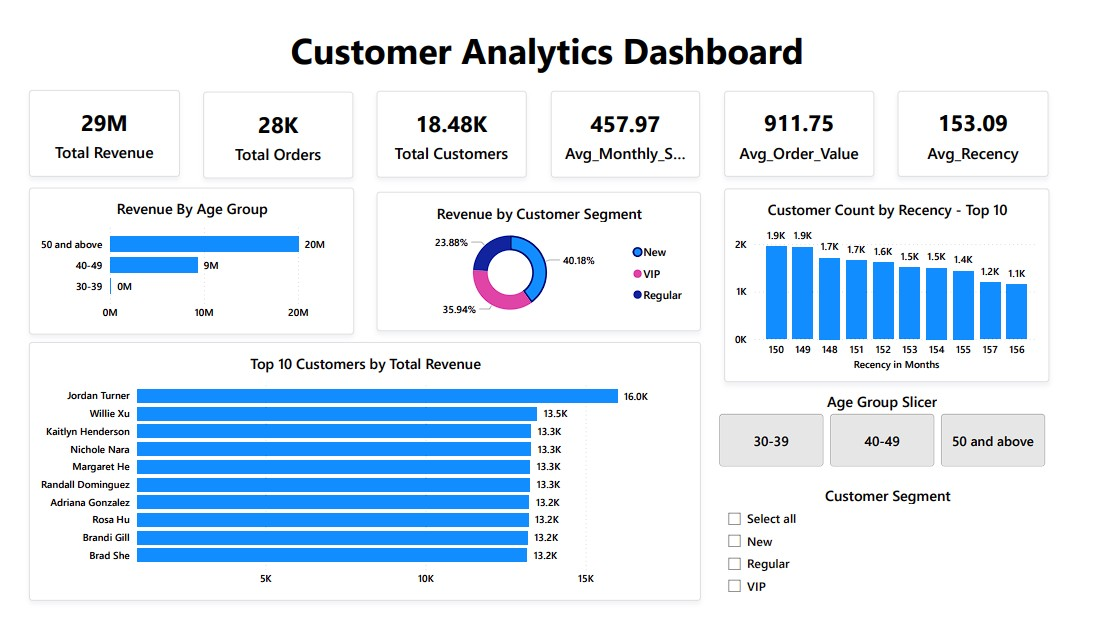

The page's visual inventory and layout, read from the dashboard file:
{"tool":"powerbi","page":{"name":"Customer Analytics Dashboard","canvas":[1280,720],"ordinal":1},"visuals":[{"type":"card","fields":{"Values":["Sum(report_customers.total_sales)"]},"box":[17.7,97.5,181,103.8],"z":0},{"type":"card","fields":{"Values":["Count(report_customers.customer_key)"]},"box":[435.5,97.8,179.8,103.9],"z":1000},{"type":"card","fields":{"Values":["Avg(report_customers.avg_order_value)"]},"box":[852,97.8,179.8,102.7],"z":2000},{"type":"card","fields":{"Values":["Sum(report_customers.total_orders)"]},"box":[227.2,99,179.8,103.9],"z":3000},{"type":"card","fields":{"Values":["Avg(report_customers.avg_monthly_spend)"]},"box":[643.7,97.8,179.8,103.9],"z":4000},{"type":"card","fields":{"Values":["Avg(report_customers.recency)"]},"box":[1060.2,97.8,181,102.7],"z":5000},{"type":"textbox","box":[259.6,15.2,760.8,68.4],"z":6000},{"type":"barChart","title":"Revenue By Age Group","fields":{"Category":["report_customers.age_group"],"Y":["Sum(report_customers.total_sales)"]},"box":[17.7,213.9,389.9,175.9],"z":7000},{"type":"donutChart","title":"Revenue by Customer Segment","fields":{"Category":["report_customers.customer_segment"],"Y":["Sum(report_customers.total_sales)"]},"box":[435.4,219,388.6,167.1],"z":8000},{"type":"barChart","title":"Top 10 Customers by Total Revenue","fields":{"Category":["report_customers.customer_name"],"Y":["Sum(report_customers.total_sales)"]},"box":[17.7,398.7,806.3,310.1],"z":9000},{"type":"advancedSlicerVisual","title":"Age Group Slicer","fields":{"Values":["report_customers.age_group"]},"box":[840.5,458.2,401.3,96.2],"z":10000},{"type":"slicer","title":"Customer Segment","fields":{"Values":["report_customers.customer_segment"]},"box":[849.4,569.6,398.7,139.2],"z":11000},{"type":"columnChart","title":"Customer Count by Recency - Top 10","fields":{"Category":["report_customers.recency"],"Y":["Count(report_customers.customer_key)"]},"box":[851.9,215.2,389.9,231.6],"z":12000}]}

Visuals, with their boxes in screenshot pixels (x1, y1, x2, y2), scaled from the page's 1280x720 canvas onto the 1095x622 screenshot:
card - Sum(report_customers.total_sales): {"x1": 15, "y1": 84, "x2": 170, "y2": 174}
card - Count(report_customers.customer_key): {"x1": 373, "y1": 84, "x2": 526, "y2": 174}
card - Avg(report_customers.avg_order_value): {"x1": 729, "y1": 84, "x2": 883, "y2": 173}
card - Sum(report_customers.total_orders): {"x1": 194, "y1": 86, "x2": 348, "y2": 175}
card - Avg(report_customers.avg_monthly_spend): {"x1": 551, "y1": 84, "x2": 704, "y2": 174}
card - Avg(report_customers.recency): {"x1": 907, "y1": 84, "x2": 1062, "y2": 173}
textbox: {"x1": 222, "y1": 13, "x2": 873, "y2": 72}
"Revenue By Age Group" barChart: {"x1": 15, "y1": 185, "x2": 349, "y2": 337}
"Revenue by Customer Segment" donutChart: {"x1": 372, "y1": 189, "x2": 705, "y2": 334}
"Top 10 Customers by Total Revenue" barChart: {"x1": 15, "y1": 344, "x2": 705, "y2": 612}
"Age Group Slicer" advancedSlicerVisual: {"x1": 719, "y1": 396, "x2": 1062, "y2": 479}
"Customer Segment" slicer: {"x1": 727, "y1": 492, "x2": 1068, "y2": 612}
"Customer Count by Recency - Top 10" columnChart: {"x1": 729, "y1": 186, "x2": 1062, "y2": 386}
